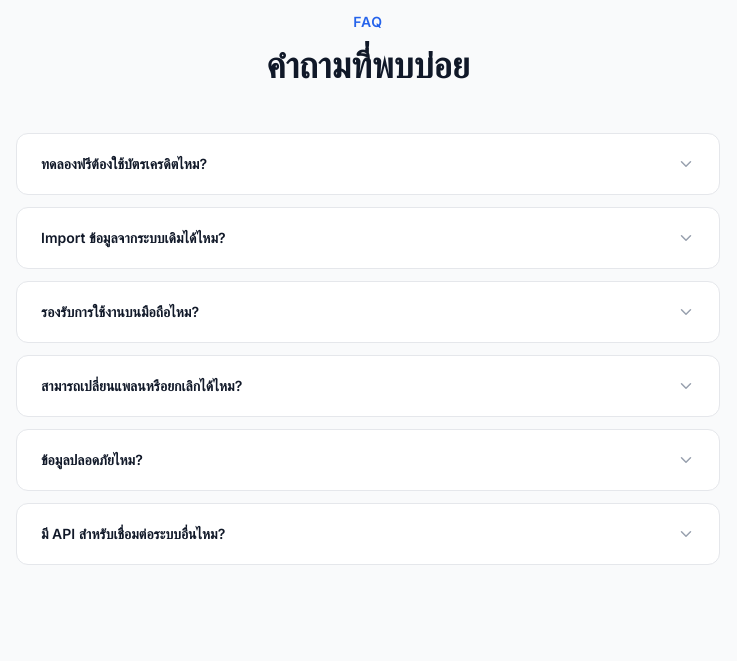
FAQ › collapses answer when same question is clicked again
The width and height of the screenshot is (737, 661).
Click the button "ทดลองฟรีต้องใช้บัตรเครดิตไหม?" at [124, 164], box left=17, top=134, right=719, bottom=194
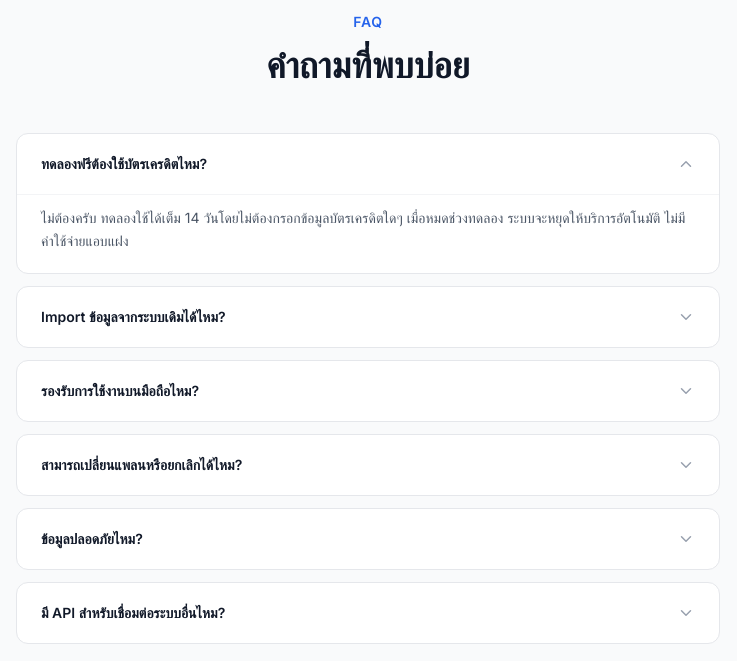
Expected: the text "ไม่ต้องครับ ทดลองใช้ได้เต็ม 14 วัน" is shown, left=41, top=209, right=685, bottom=249
Click the button "ทดลองฟรีต้องใช้บัตรเครดิตไหม?" at [124, 164], box left=17, top=134, right=719, bottom=194
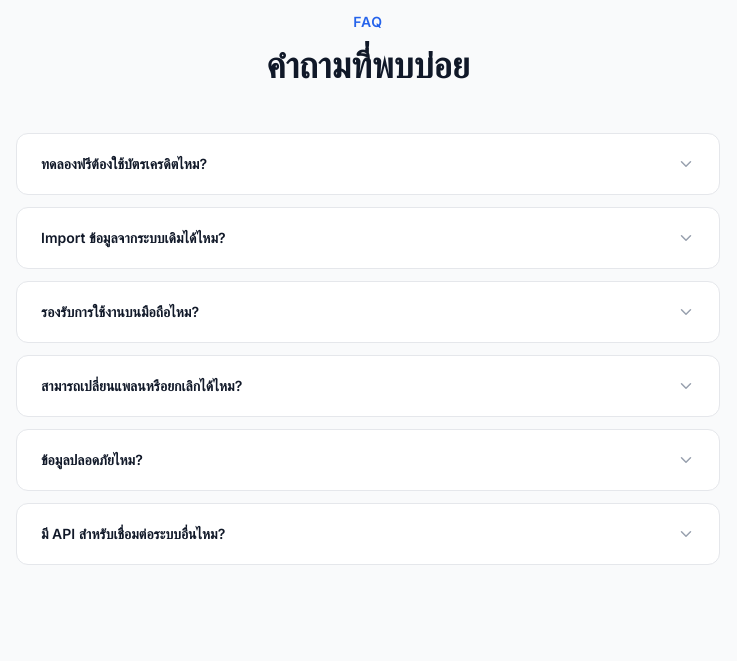
Expected: the text "ไม่ต้องครับ ทดลองใช้ได้เต็ม 14 วัน" is gone
